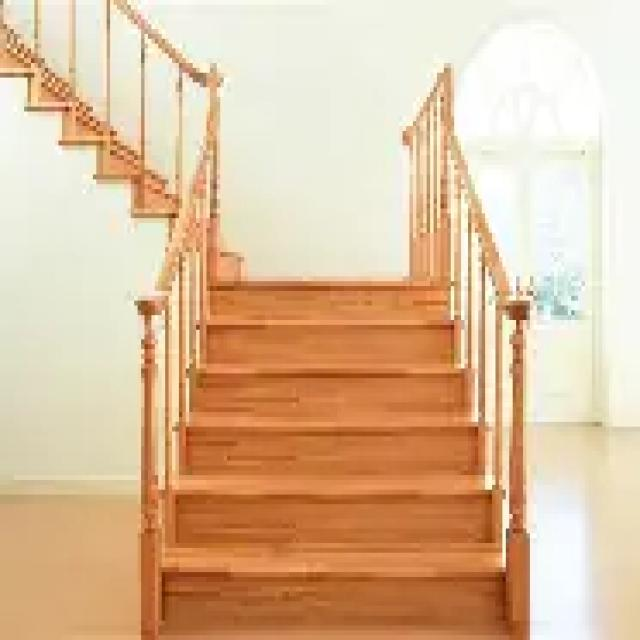Stairs: (139, 251, 529, 634)
